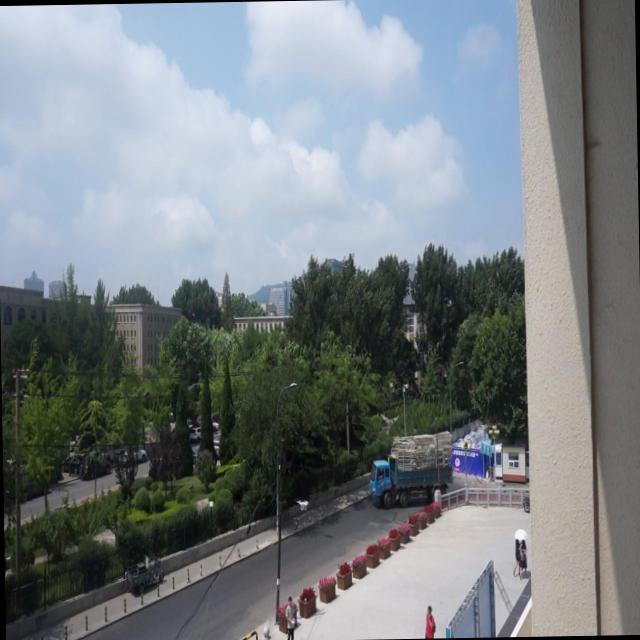drone: (294, 497, 310, 514)
